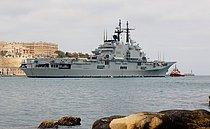MIL_Ship: (19, 33, 176, 77)
